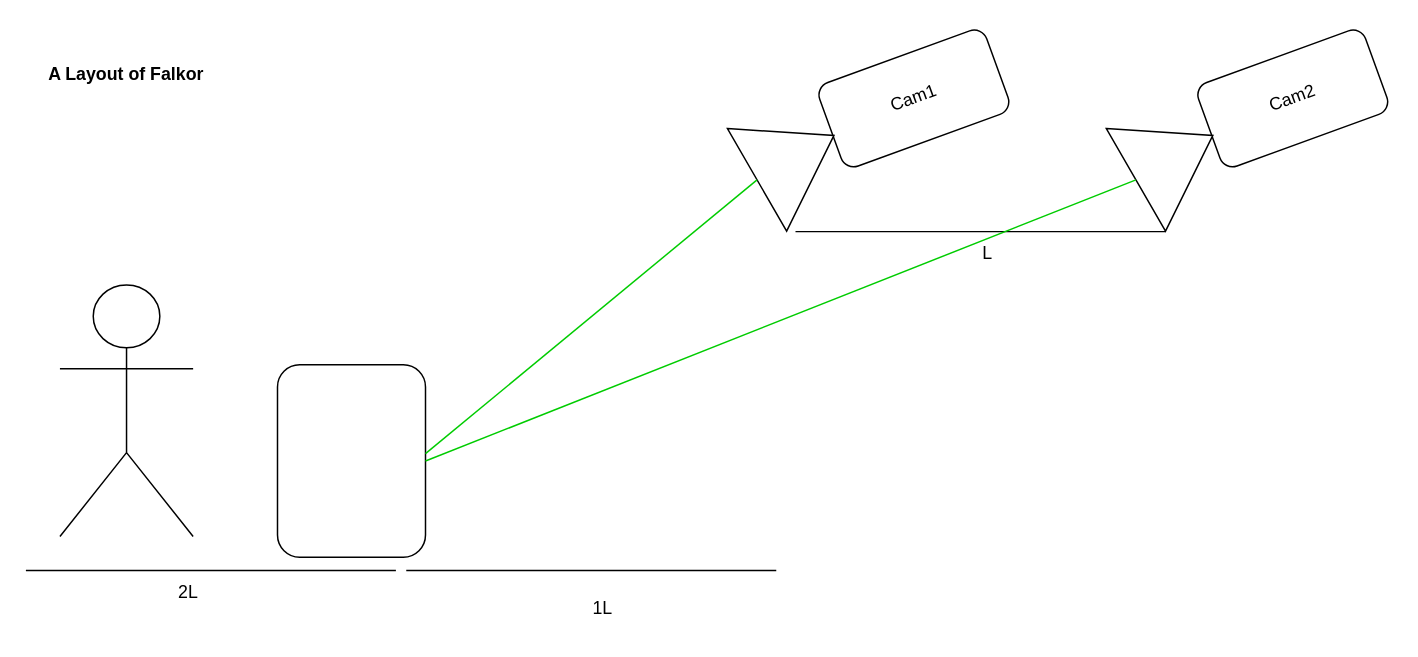
Some shapes in this 1418 by 657 pixel diagram are drawn without their labels. Here are the shapes that lost their labels. From the top down, the box of each, then its label:
(58, 283, 193, 536): Obj1
(276, 363, 426, 557): Obj2
